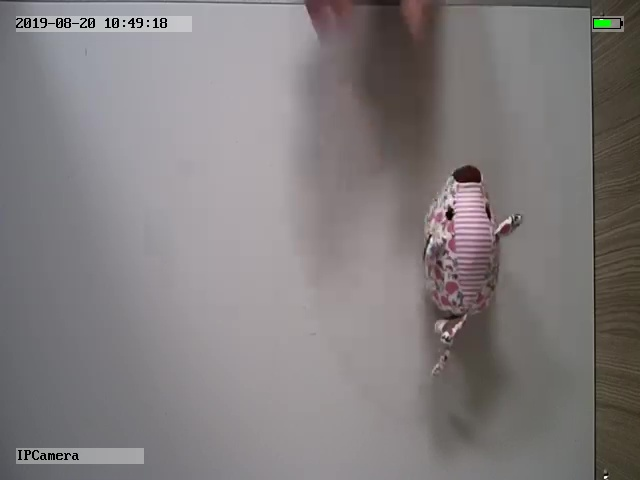pig: (420, 164, 523, 377)
